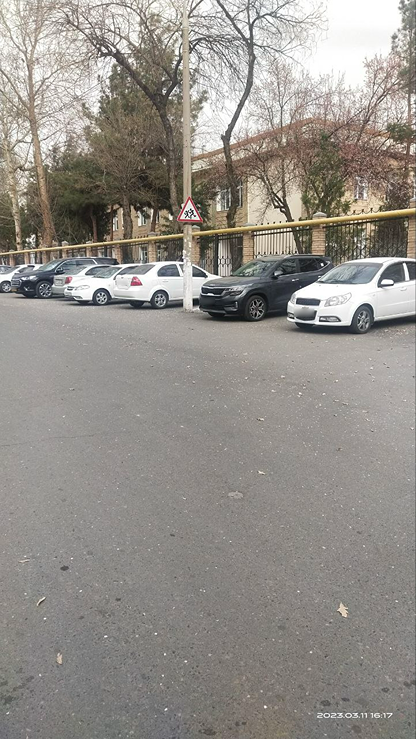car: (293, 246, 416, 336), (196, 246, 318, 323), (113, 258, 218, 309), (71, 267, 117, 301), (16, 256, 53, 295)
tree: (189, 0, 311, 210), (80, 1, 208, 200), (242, 67, 365, 240), (0, 0, 85, 230), (88, 96, 151, 228)
